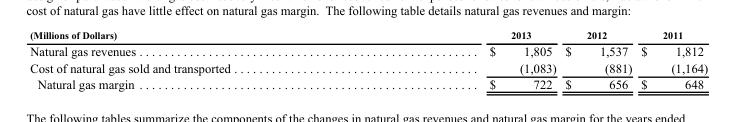table: (29, 29, 707, 90)
table column: (29, 29, 359, 90), (359, 29, 560, 90), (560, 29, 635, 90), (635, 29, 707, 90)
table column header: (29, 29, 707, 42)
table row: (29, 42, 707, 59), (29, 59, 707, 75), (29, 75, 707, 90), (29, 29, 707, 42)
